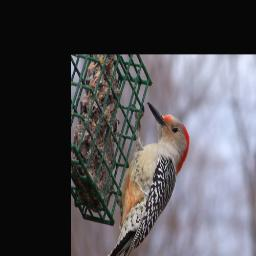Woodpecker: (108, 103, 190, 256)
